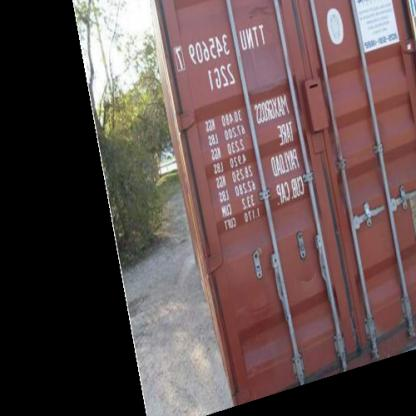Damage: (228, 294, 274, 338), (296, 262, 326, 289)
